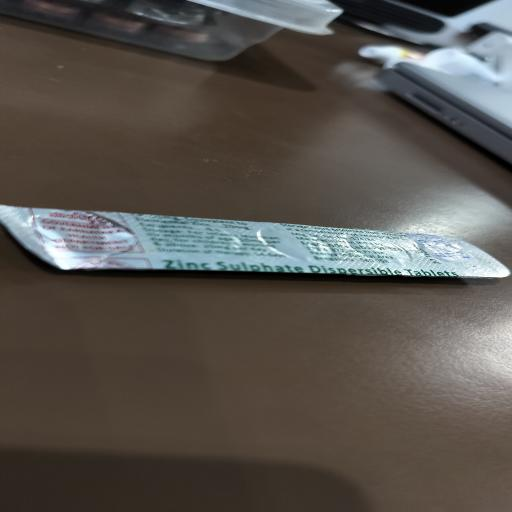Zinc-Sulphate-Dispersible-Tablets: (157, 253, 461, 278)
medicine: (0, 203, 505, 282)
